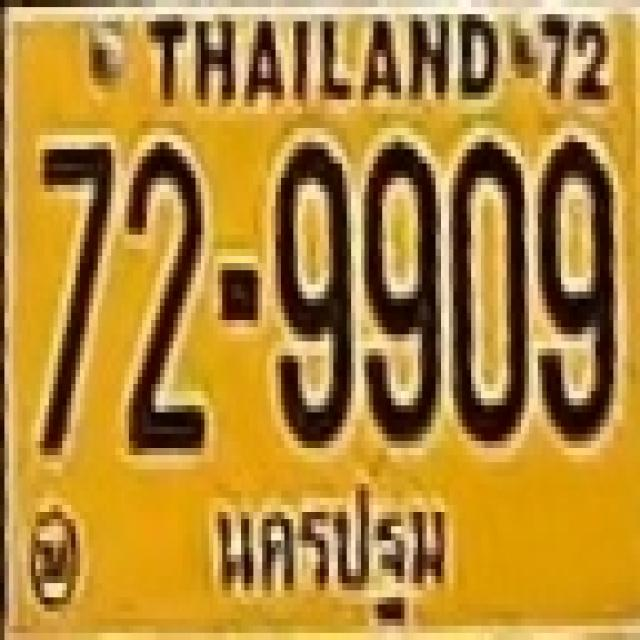0: (449, 135, 524, 434)
2: (122, 135, 202, 448)
7: (40, 142, 111, 448)
9: (534, 135, 614, 434), (271, 135, 347, 441), (360, 135, 436, 434)
NPT: (206, 468, 456, 632)
